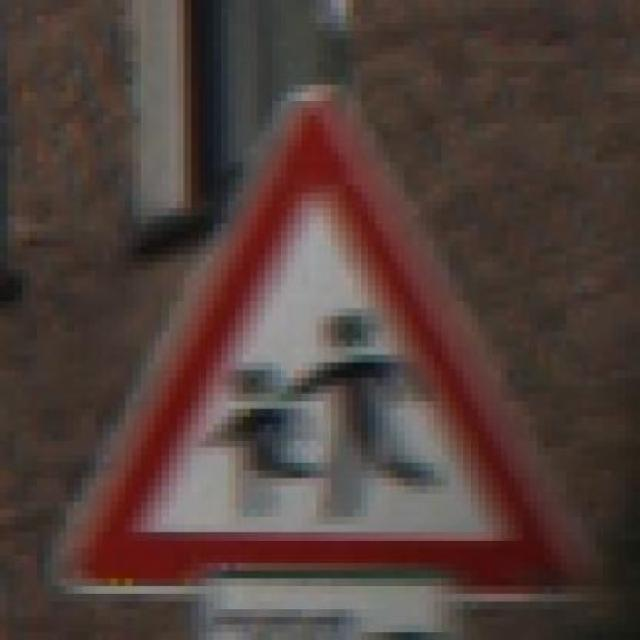Beware of children: (29, 61, 611, 602)
